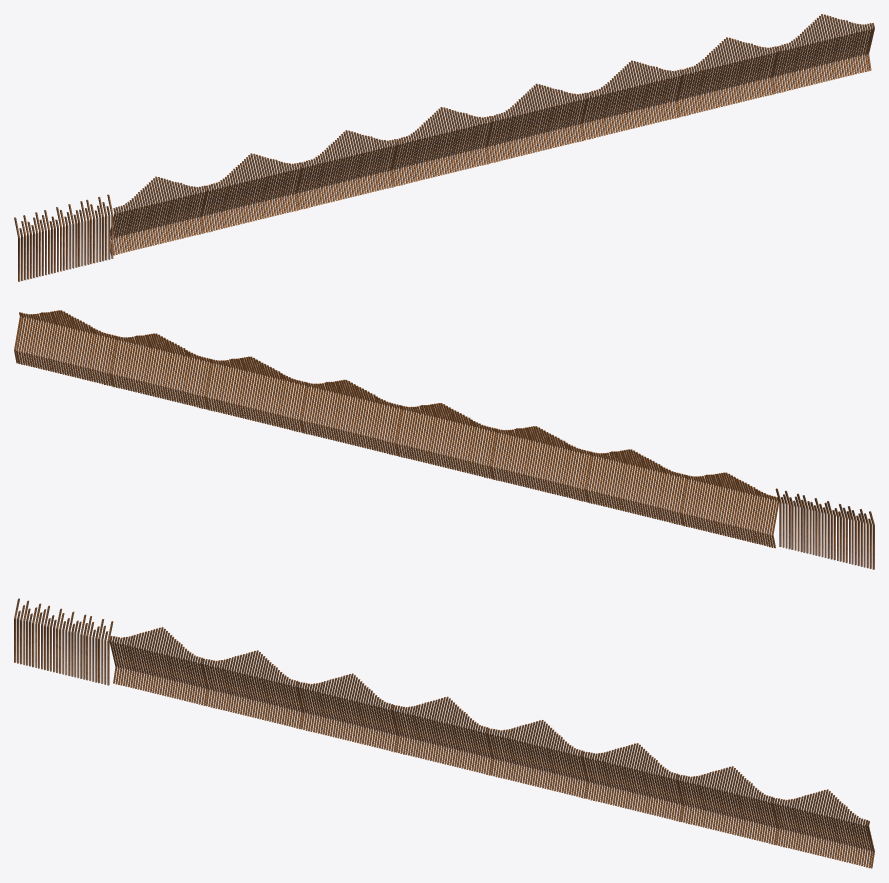
The model's file is WallDecorRight.obj.
3 views of the same model, one above another, from view 1: azimuth 30°, elevation 25°; view 2: azimuth 150°, elevation 25°; view 3: azimuth 330°, elevation 25° (orthographic).
Parts seen in each view (by area): view 1: WallDecoration2.002, WallDecoration2, WallDecoration1; view 2: WallDecoration2.002, WallDecoration2, WallDecoration1; view 3: WallDecoration2, WallDecoration2.002, WallDecoration1.
Part boxes in pixels (<box>): WallDecoration2.002: <box>489,14,874,162</box>; WallDecoration2: <box>110,107,494,255</box>; WallDecoration1: <box>14,194,113,281</box>; WallDecoration2.002: <box>14,310,399,455</box>; WallDecoration2: <box>394,403,779,548</box>; WallDecoration1: <box>775,488,874,569</box>; WallDecoration2: <box>109,627,494,775</box>; WallDecoration2.002: <box>489,720,874,868</box>; WallDecoration1: <box>14,598,113,685</box>.
Bounding box in the file's own units: 128 × 9.38 × 1.71.
